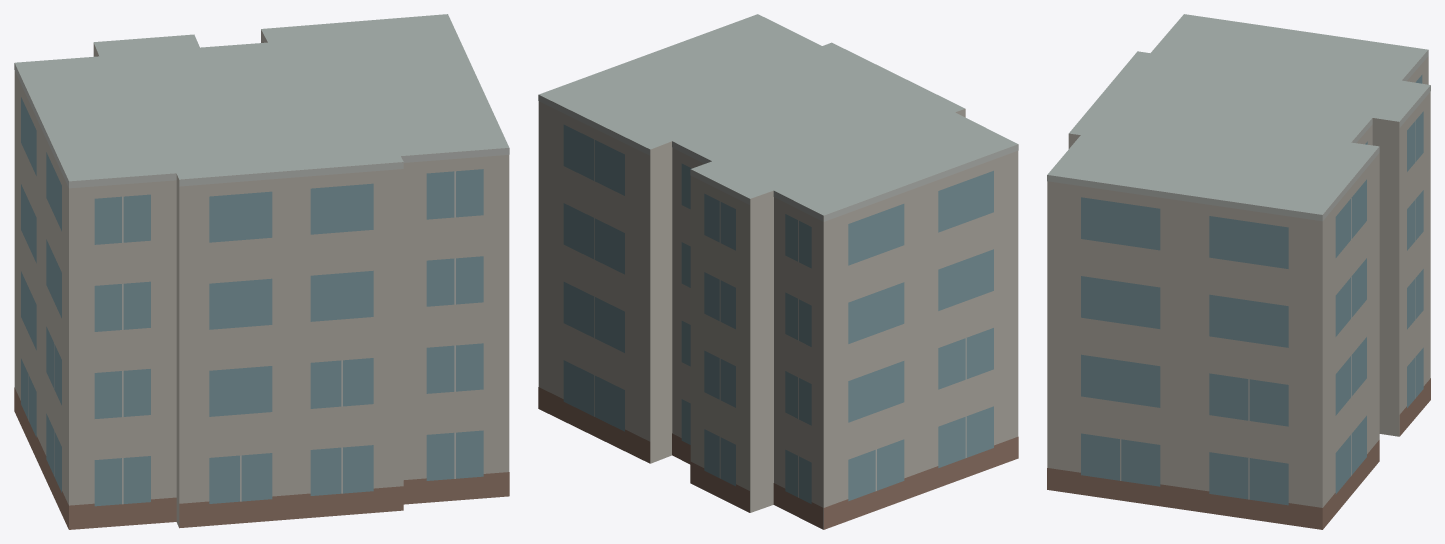
Rendered from survey-upis-32699854.glb.
The picture shows the model from 3 angles, left to right: view 1: azimuth 30°, elevation 25°; view 2: azimuth 150°, elevation 25°; view 3: azimuth 270°, elevation 25°; orthographic projection. The views are drawn at different scales.
Parts seen in each view (by area): view 1: survey-upis-32699854.tmp; view 2: survey-upis-32699854.tmp; view 3: survey-upis-32699854.tmp.
Part boxes in pixels (left/top/right/bottom): survey-upis-32699854.tmp: left=14, top=14, right=509, bottom=529; survey-upis-32699854.tmp: left=538, top=14, right=1018, bottom=529; survey-upis-32699854.tmp: left=1047, top=14, right=1430, bottom=529.
Size of the model in its own units: 16.63 by 12.15 by 13.42.
